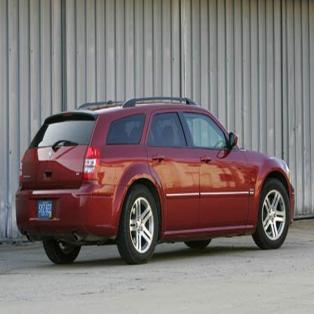Auto: (14, 96, 294, 263)
